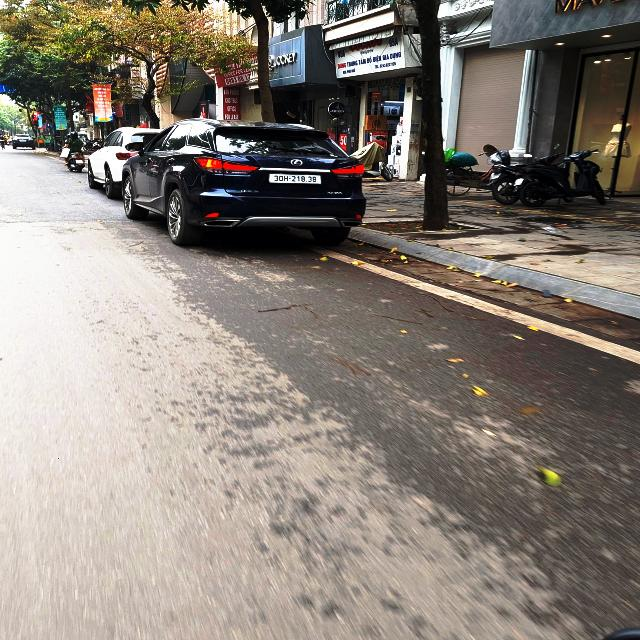license_plate: (268, 172, 325, 187)
